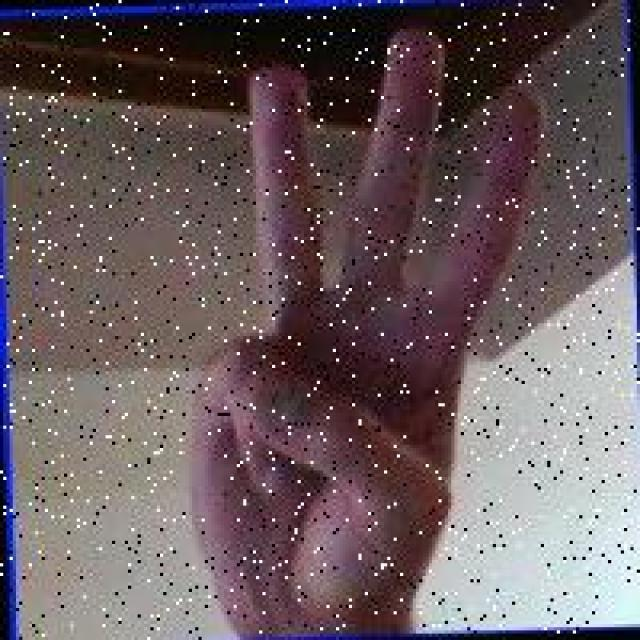W: (164, 16, 566, 634)
